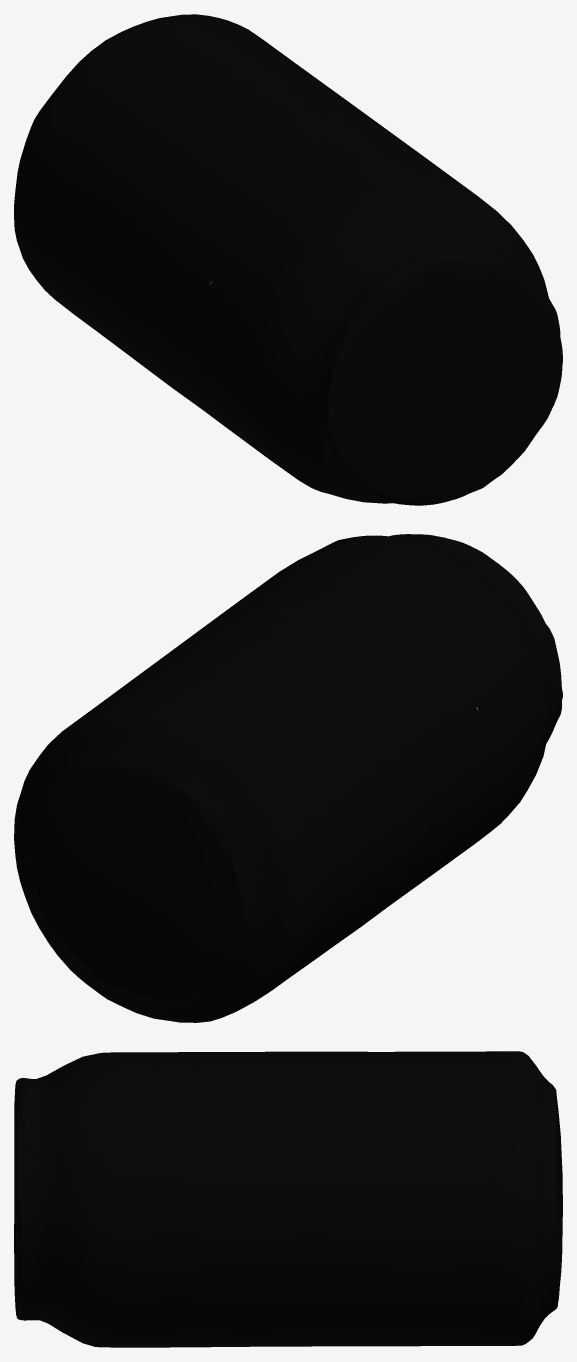
The model's file is coke_rubber.obj.
The picture shows the model from 3 angles, top to bottom: view 1: azimuth 30°, elevation 25°; view 2: azimuth 150°, elevation 25°; view 3: azimuth 270°, elevation 25°; orthographic projection. The views are drawn at different scales.
Parts seen in each view (by area): view 1: coke_can; view 2: coke_can; view 3: coke_can.
Part boxes in pixels (x1,y1,x2,y2): coke_can: [14, 14, 562, 505]; coke_can: [14, 534, 562, 1022]; coke_can: [14, 1051, 562, 1347].
Bounding box in the file's own units: 0.067 × 0.067 × 0.1239.
